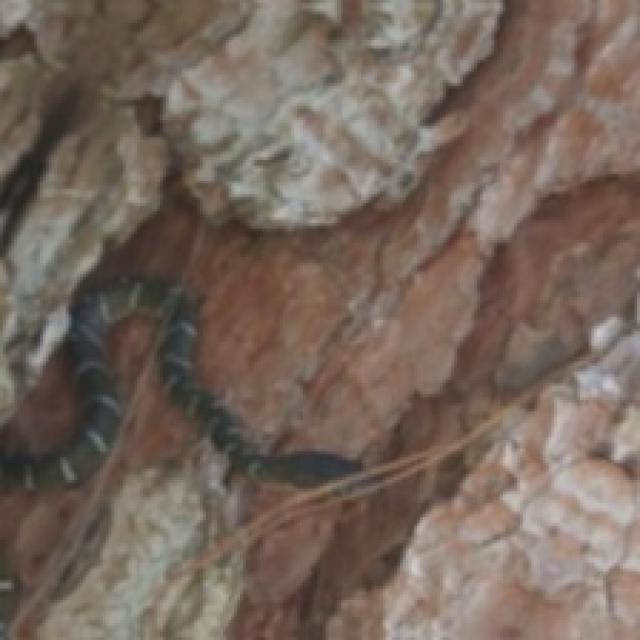reddish rat snake: (0, 277, 357, 491)
